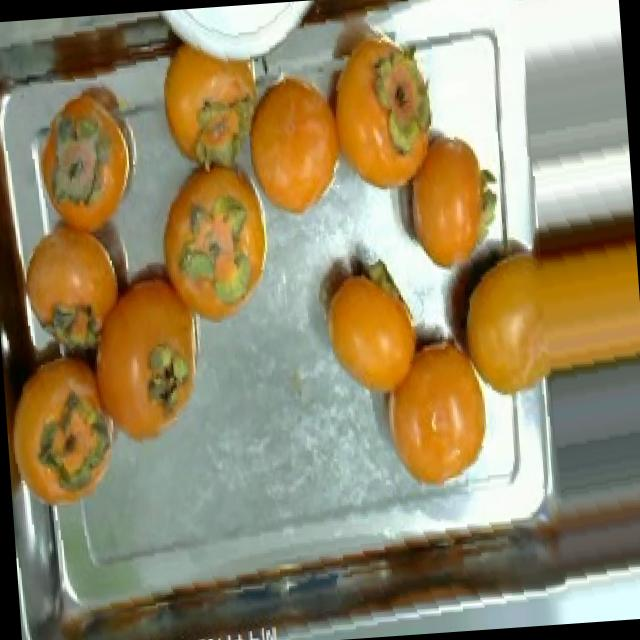Fruit: (297, 0, 442, 216), (298, 235, 441, 418), (453, 230, 591, 419), (1, 334, 128, 526), (18, 64, 155, 236), (382, 104, 504, 290), (244, 47, 356, 235), (367, 353, 499, 503)
